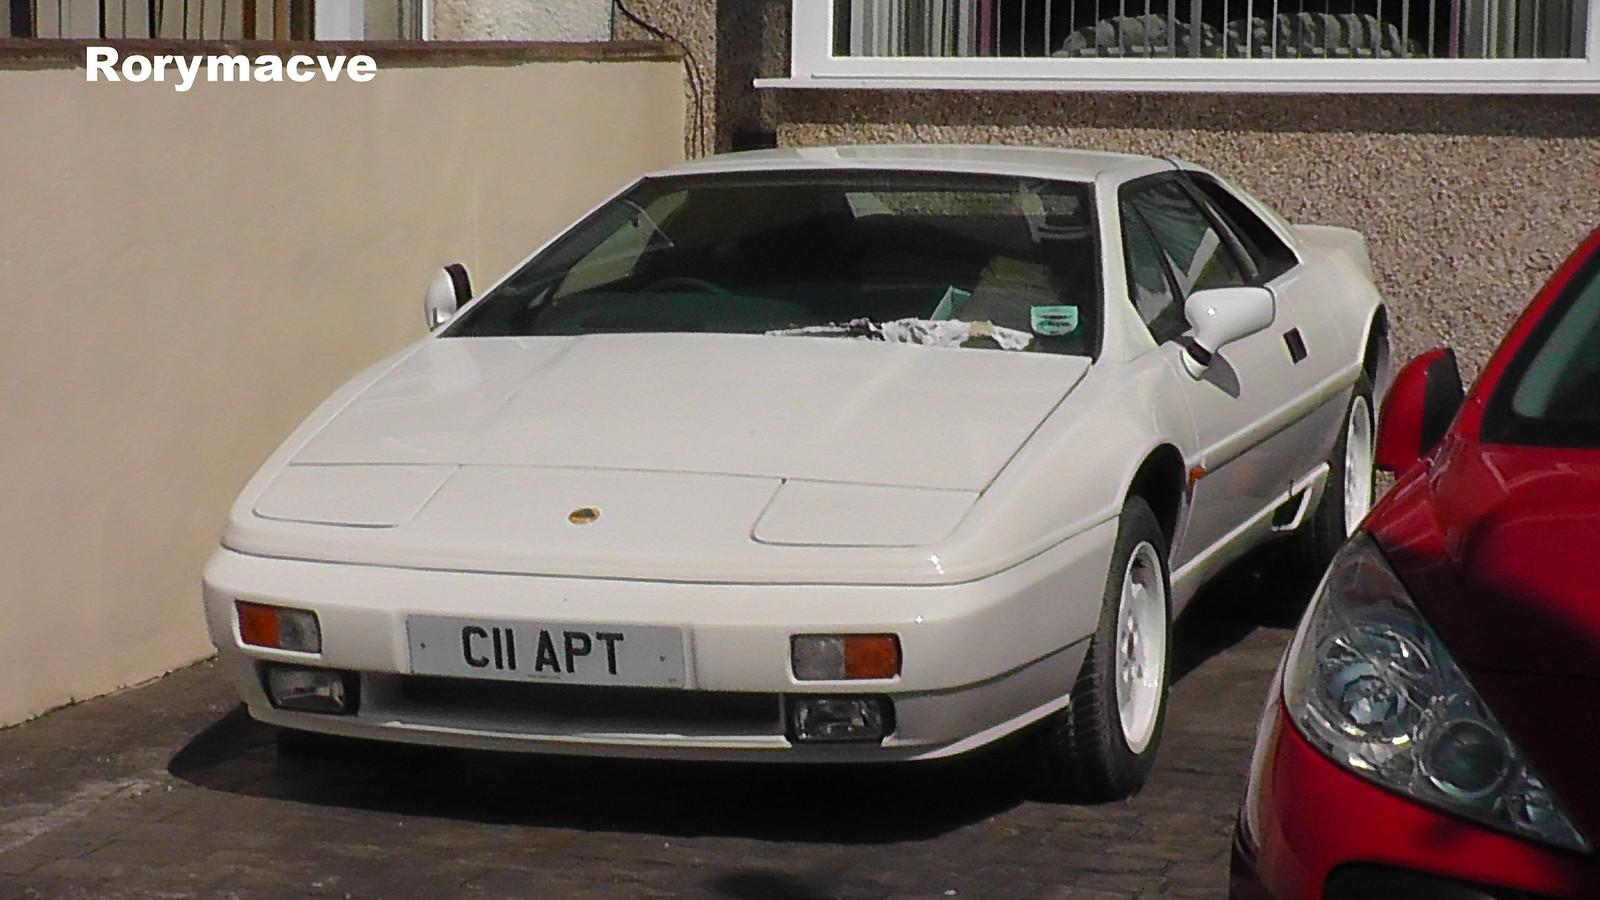Front-Windscreen-Damage: (556, 168, 952, 333)
